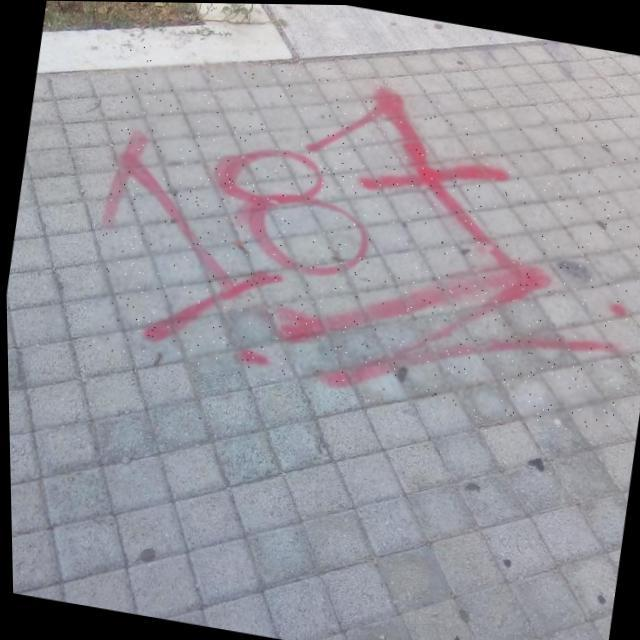-: (81, 42, 640, 436)
